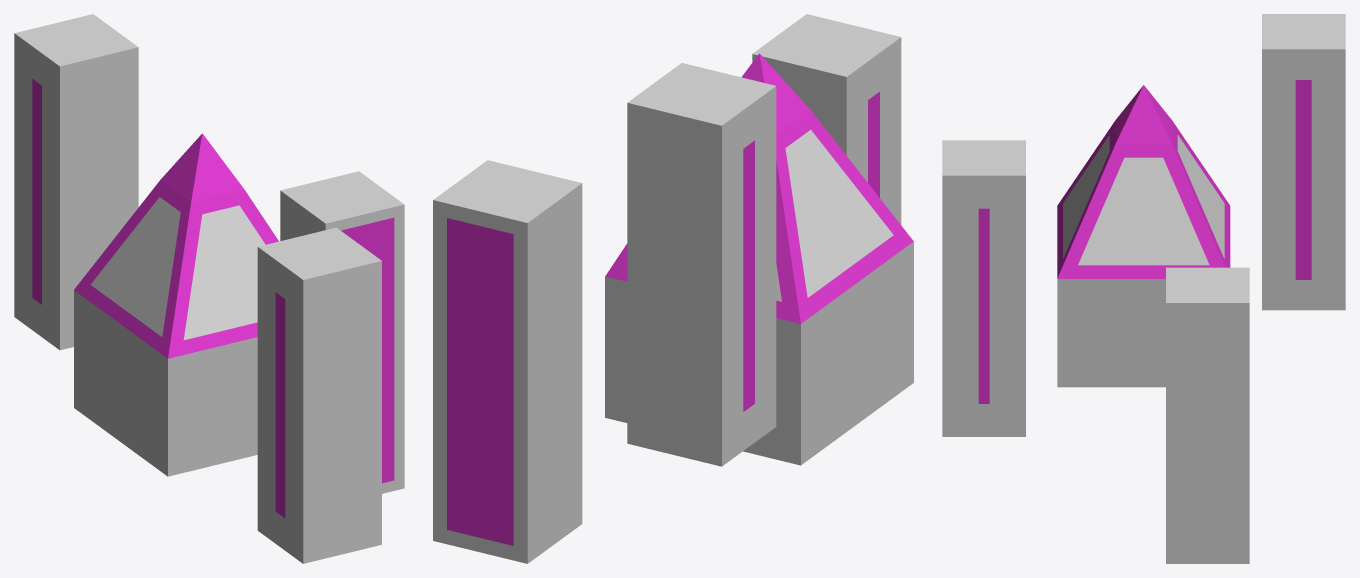
File: leisure.fbx
3 views of the same model, side by side, from view 1: azimuth 30°, elevation 25°; view 2: azimuth 150°, elevation 25°; view 3: azimuth 270°, elevation 25° (orthographic). The views are drawn at different scales.
Visible parts, largest first — view 1: leisure; view 2: leisure; view 3: leisure.
Boxes of the visible parts, left/top/right/bottom form: leisure: left=14, top=14, right=404, bottom=563; leisure: left=433, top=14, right=913, bottom=563; leisure: left=942, top=14, right=1345, bottom=563.
Bounding box in the file's own units: 363 × 534 × 466.
